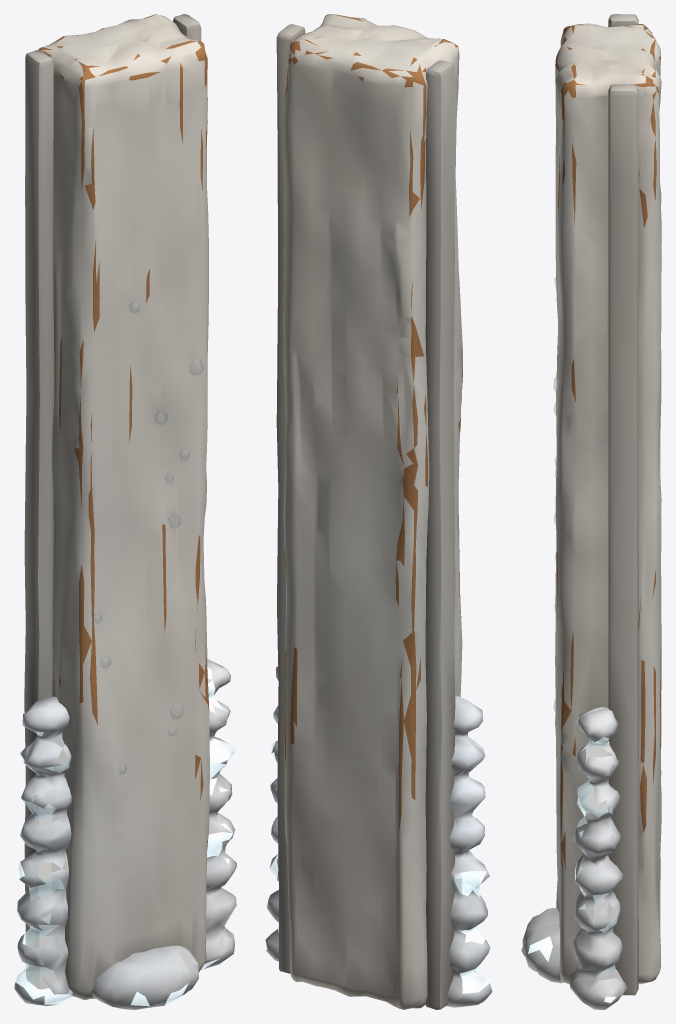
The model's file is frost_window_cliff_mullion.glb.
3 views of the same model, side by side, from view 1: azimuth 30°, elevation 25°; view 2: azimuth 150°, elevation 25°; view 3: azimuth 270°, elevation 25° (orthographic). The views are drawn at different scales.
Visible parts, largest first — view 1: frost_window_cliff_mullion; view 2: frost_window_cliff_mullion; view 3: frost_window_cliff_mullion.
Boxes of the visible parts, left/top/right/bottom form: frost_window_cliff_mullion: left=14, top=14, right=236, bottom=1009; frost_window_cliff_mullion: left=265, top=14, right=492, bottom=1009; frost_window_cliff_mullion: left=521, top=14, right=661, bottom=1009.
Size of the model in its own units: 9.72 by 40.75 by 5.61.
